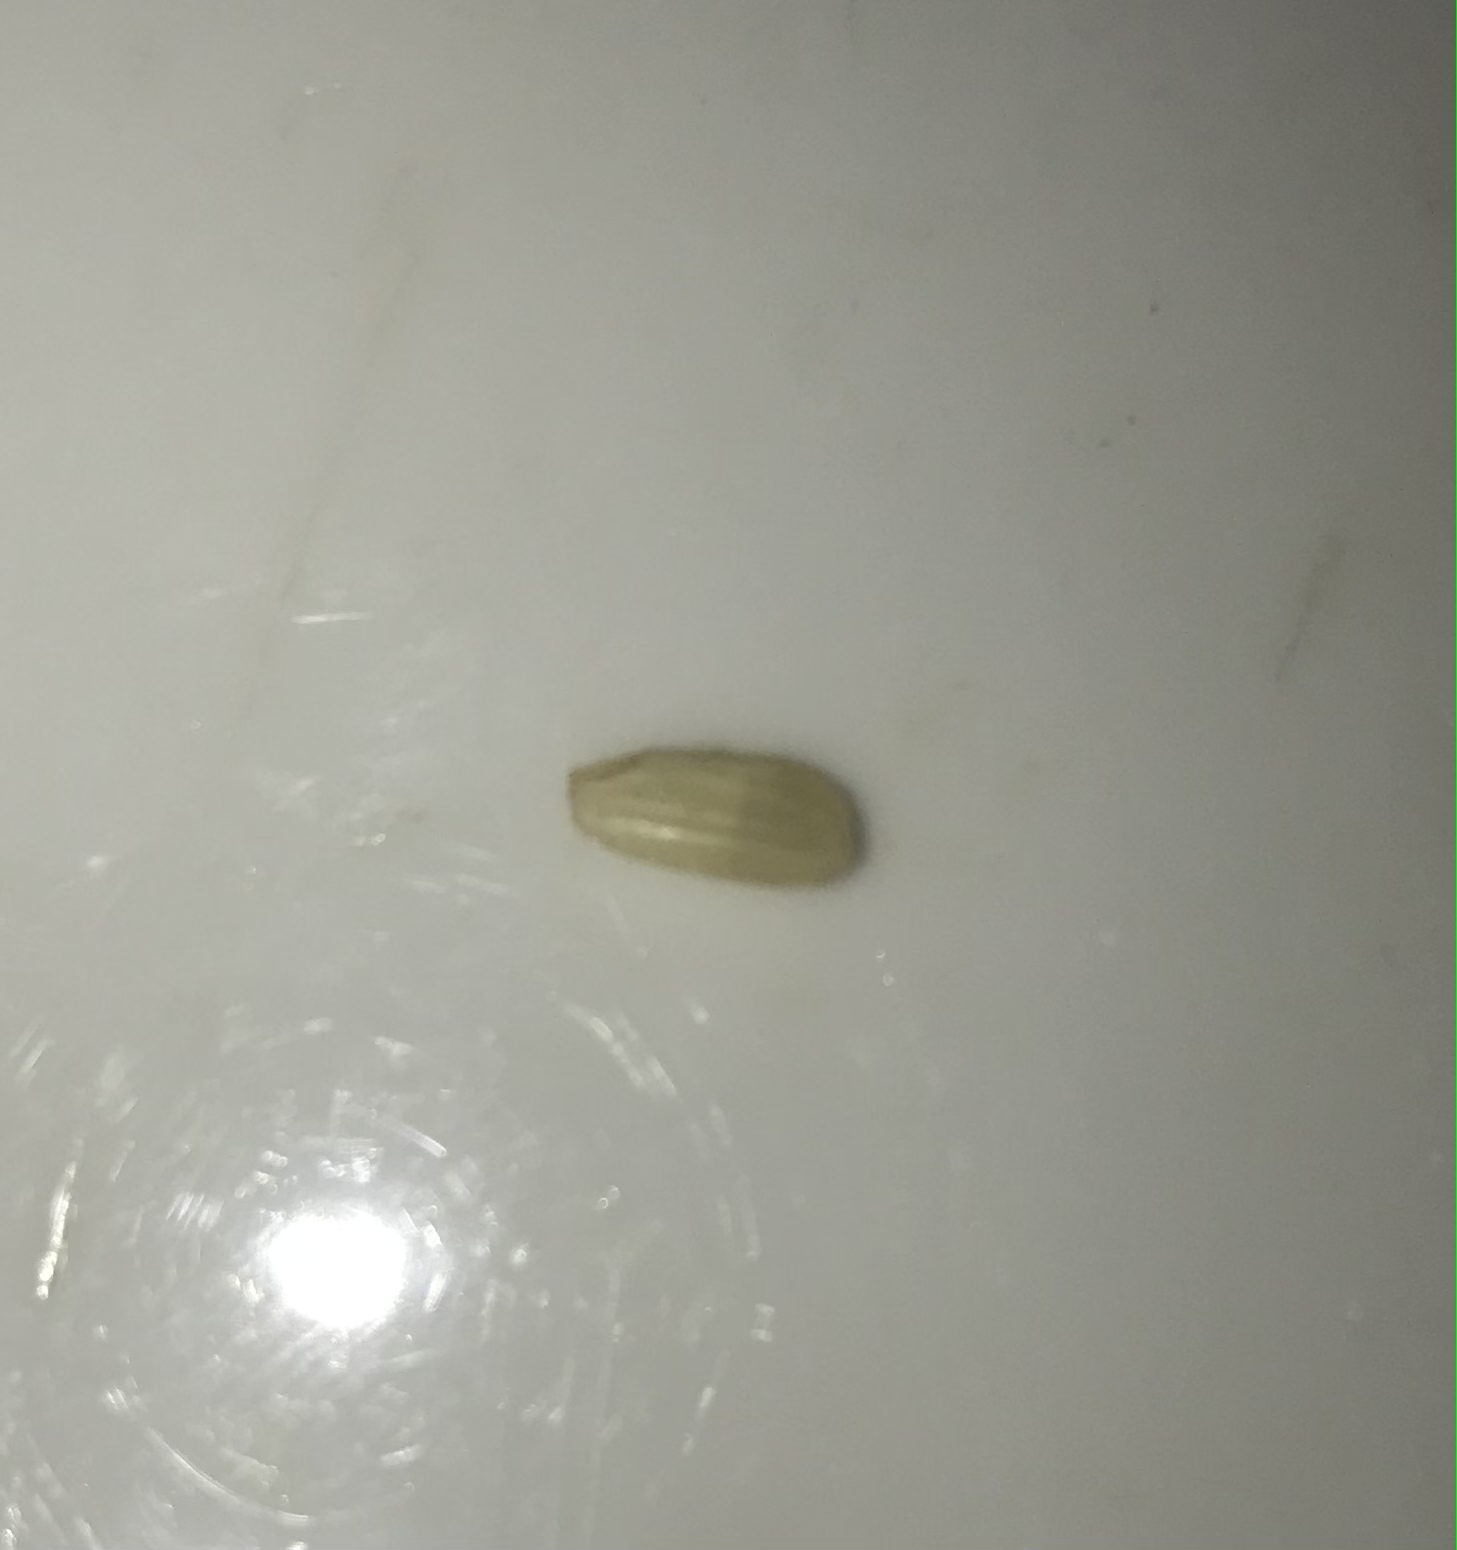Gao Lut Trang: (546, 693, 893, 926)
